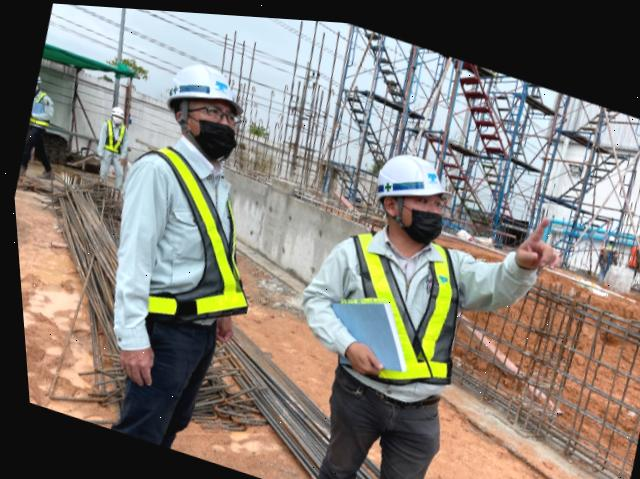helmet: (149, 43, 249, 113), (367, 134, 456, 207), (107, 100, 131, 122), (35, 72, 42, 86)
vest: (97, 133, 272, 349), (309, 217, 479, 407), (98, 113, 132, 156), (25, 91, 54, 132)
